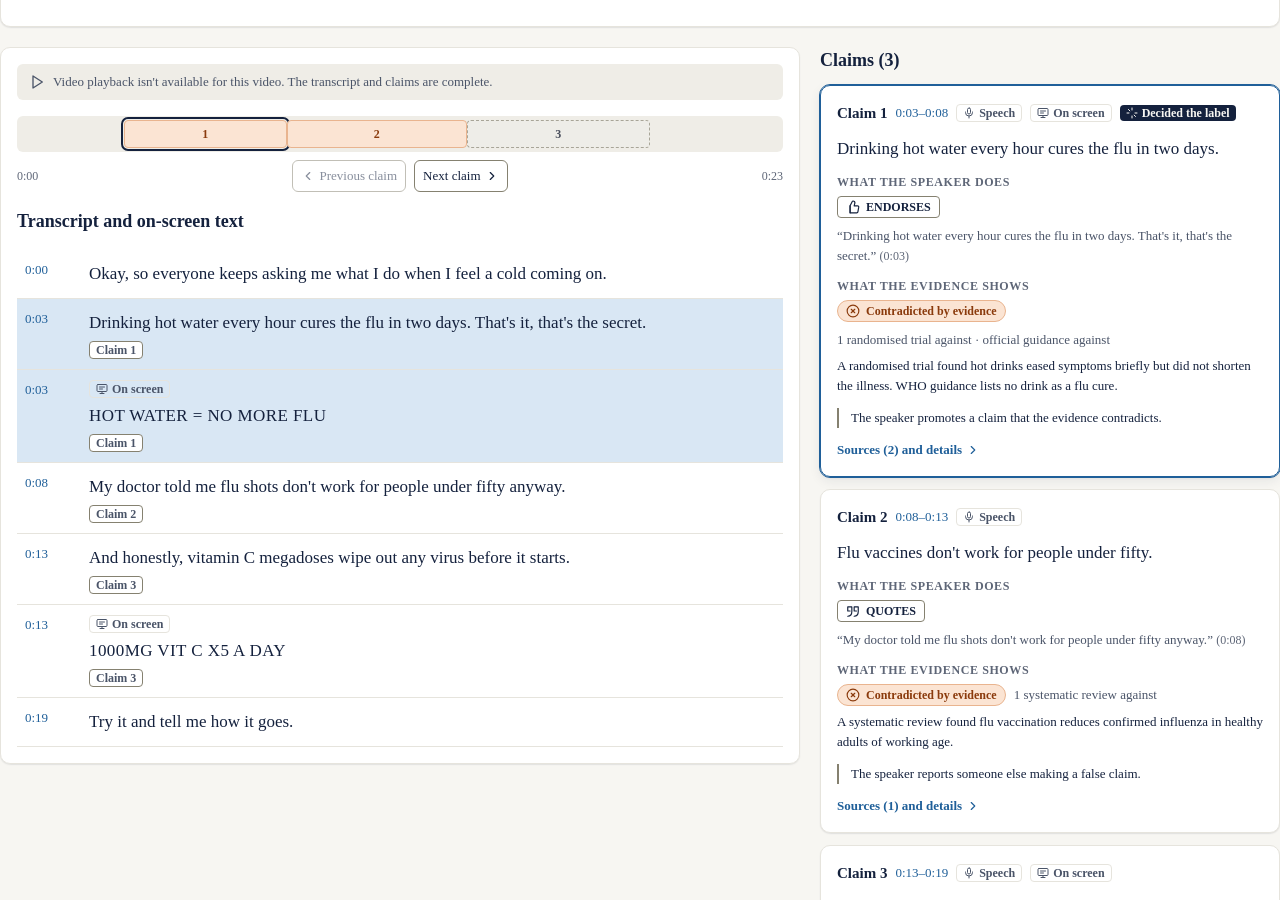
Test: ClaimDrawer › moves between claims with previous and next
The width and height of the screenshot is (1280, 900).
(page scrolled)
Step 1. Click the button "Sources (2) and details" → coordinates (909, 450), box [837,440,980,460]
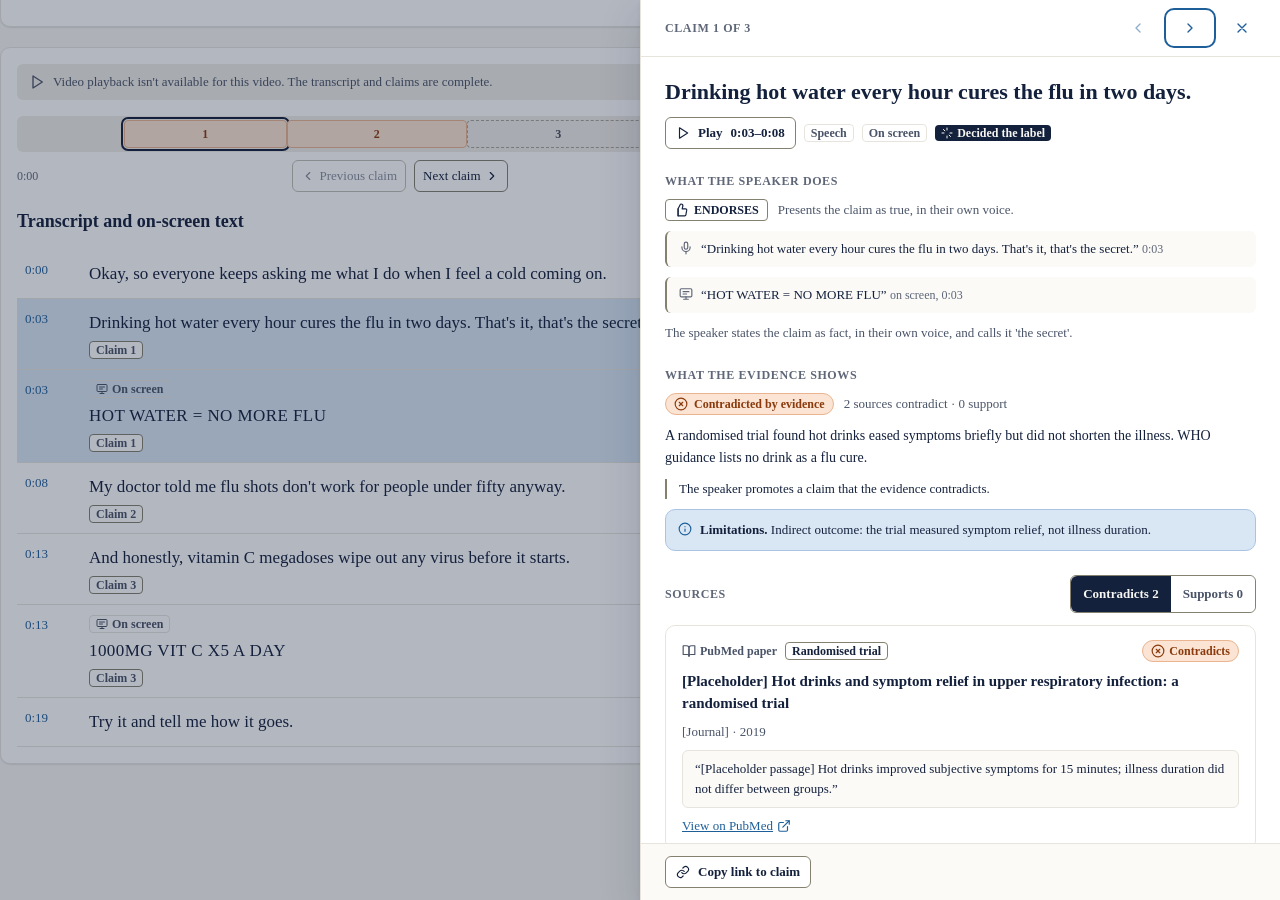
Expected: the button named "Previous claim" is disabled, [1116,12,1160,44]
Step 2. Click the button named "Next claim" → coordinates (1190, 28), box [1168,12,1212,44]
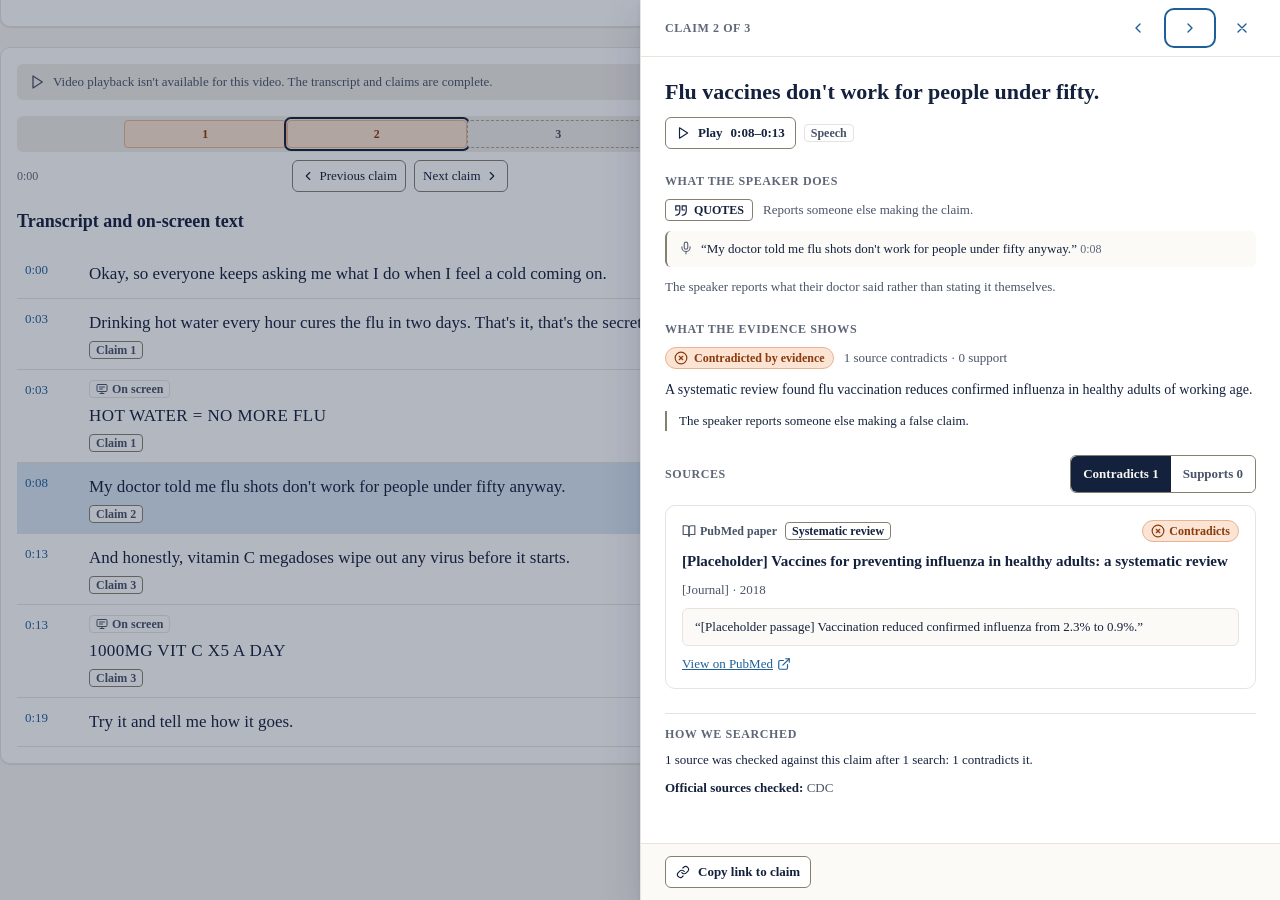
Expected: the text "Claim 2 of 3" is shown, [665,20,751,36]
